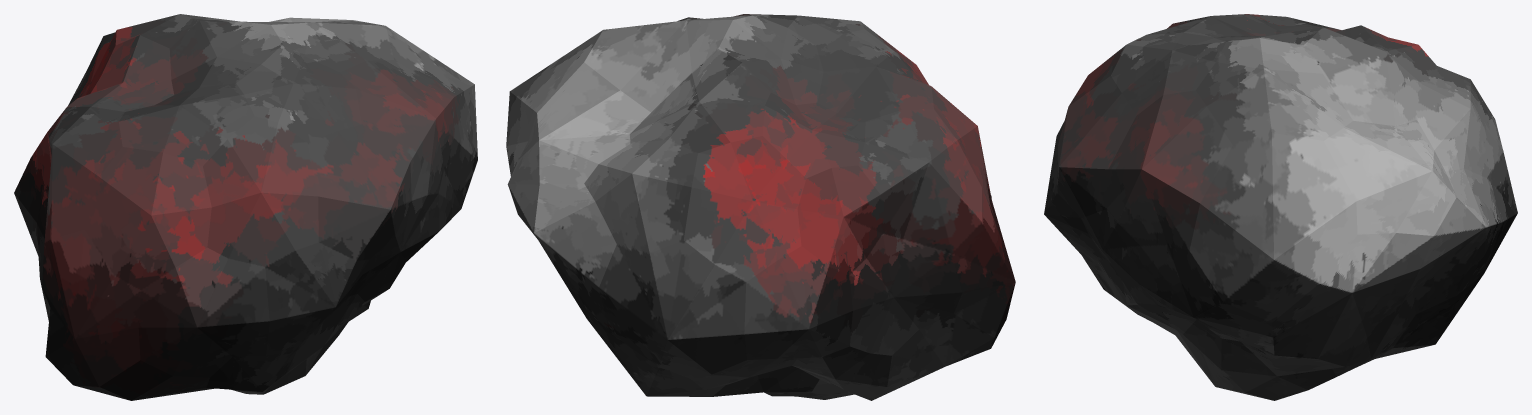
Rendered from BloodRock3.glb.
3 views of the same model, side by side, from view 1: azimuth 30°, elevation 25°; view 2: azimuth 150°, elevation 25°; view 3: azimuth 270°, elevation 25° (orthographic). The views are drawn at different scales.
Visible parts, largest first — view 1: BloodRock3; view 2: BloodRock3; view 3: BloodRock3.
Boxes of the visible parts, <box> form: BloodRock3: <box>14,14,477,400</box>; BloodRock3: <box>506,14,1015,400</box>; BloodRock3: <box>1044,14,1517,400</box>.
Bounding box in the file's own units: 5.32 × 4.01 × 4.77.
1 material, 1 textured.
